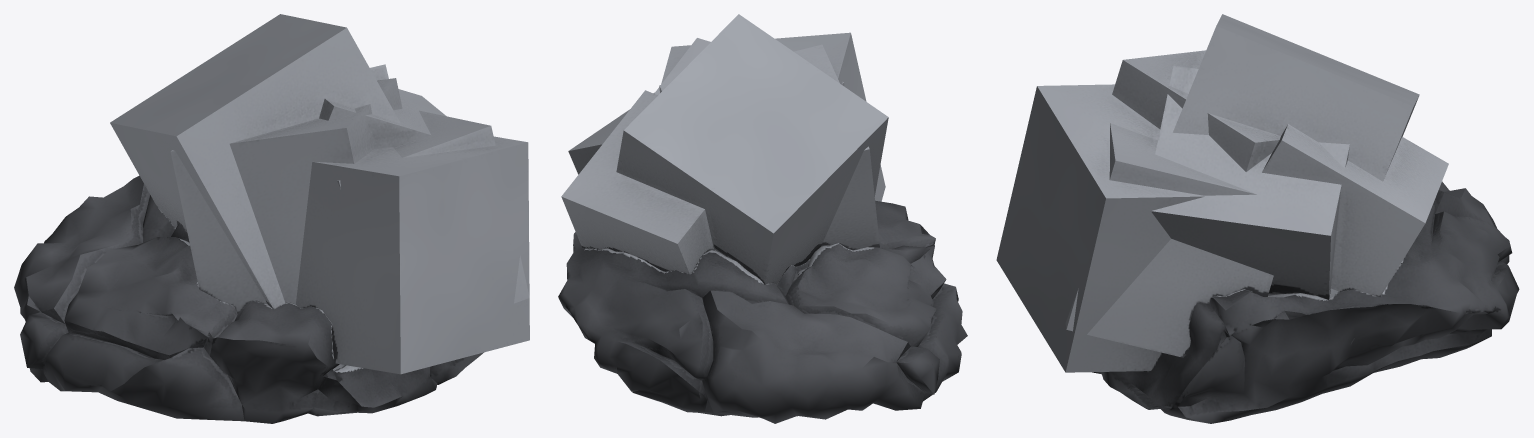
The model's file is mineral_plomo.fbx.
3 renders of one model, left to right at view 1: azimuth 30°, elevation 25°; view 2: azimuth 150°, elevation 25°; view 3: azimuth 270°, elevation 25°, orthographic. The views are drawn at different scales.
Visible parts, largest first — view 1: mineral_plomo; view 2: mineral_plomo; view 3: mineral_plomo.
Part boxes in pixels (x1,y1,x2,y2): mineral_plomo: (14, 14, 529, 423); mineral_plomo: (558, 14, 967, 423); mineral_plomo: (996, 14, 1519, 423).
Size of the model in its own units: 2.21 by 1.69 by 2.36.
Materials: 1 (1 with a texture image).
